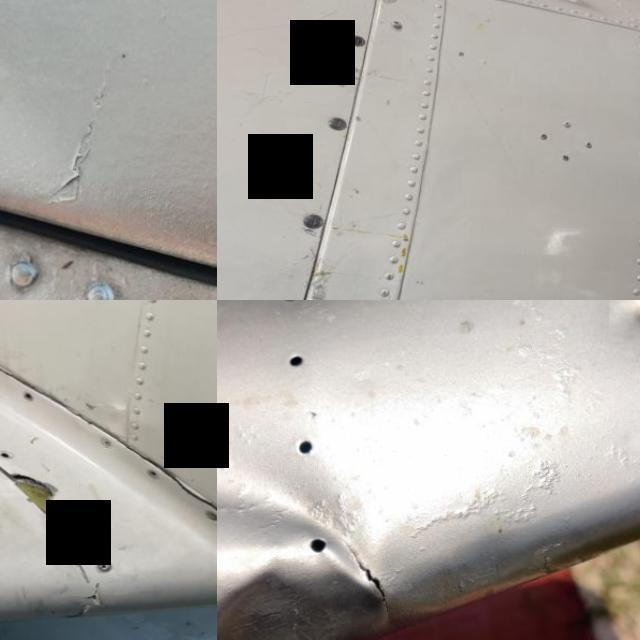Crack: (321, 520, 411, 640), (4, 470, 74, 532), (159, 468, 216, 508), (72, 583, 116, 606)
Dent: (217, 427, 403, 640)
Missing_Fastener: (18, 391, 36, 404), (146, 469, 160, 482), (0, 448, 13, 461)
